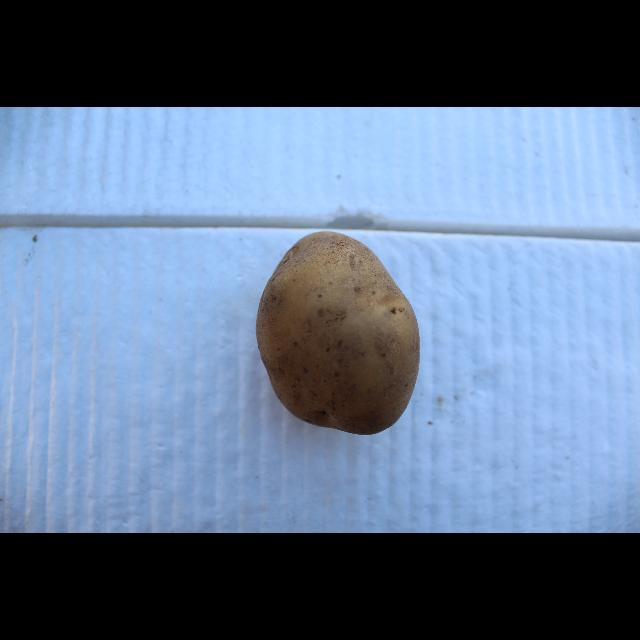Diseased-fungal potato: (258, 228, 424, 440)
